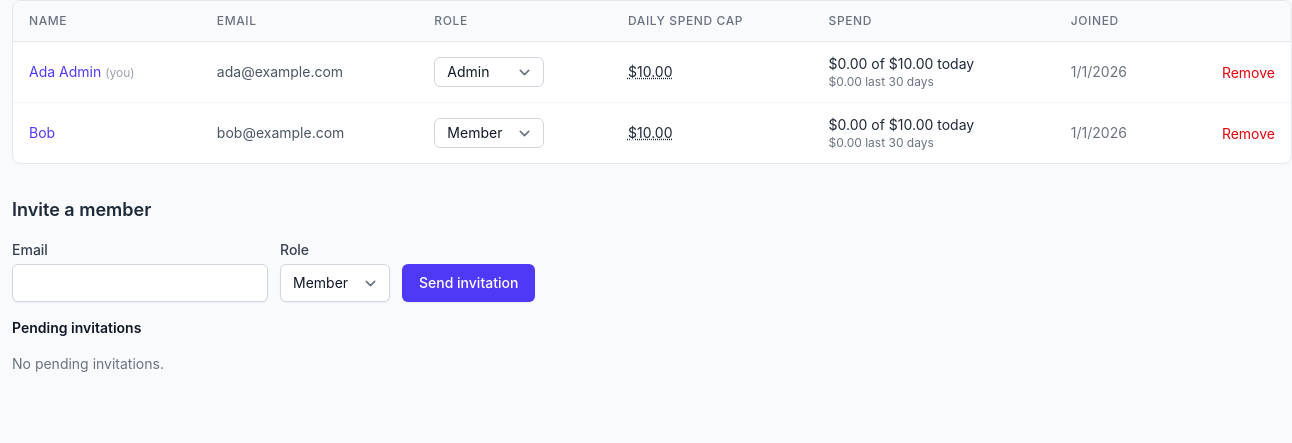
PeopleManager › shows an error when an invitation fails
This screenshot has width=1292, height=443.
In the field labelled "Email": {"x": 140, "y": 283} [12, 264, 268, 302], type "bob@example.com"
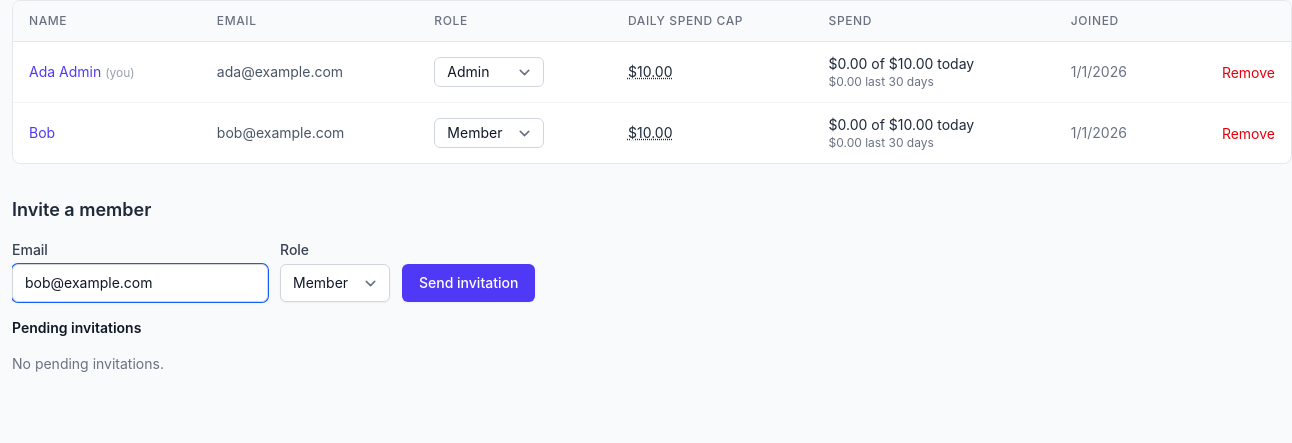
Click the button "Send invitation": {"x": 469, "y": 283} [402, 264, 535, 302]
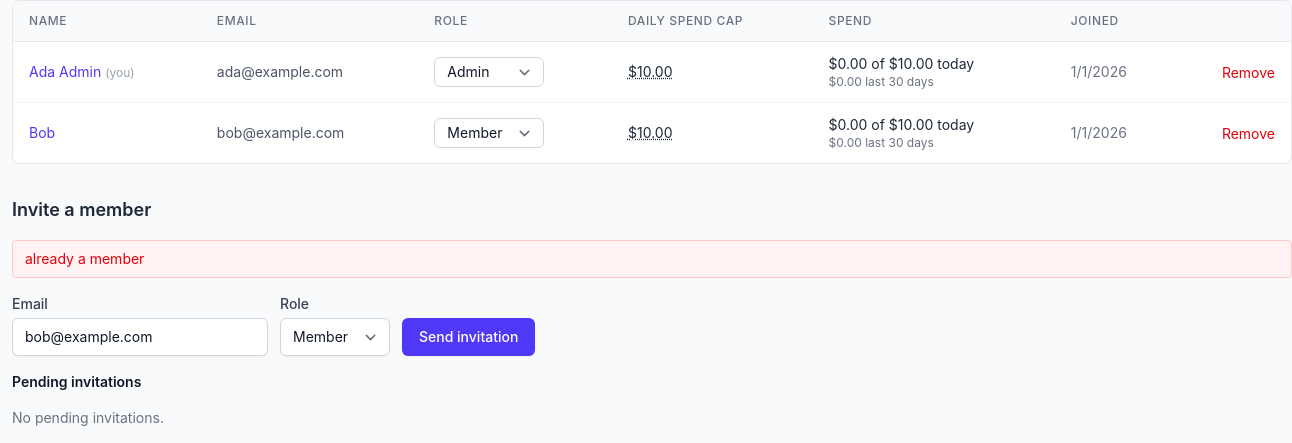
Now the message reads "already a member", box [25, 250, 144, 267]
